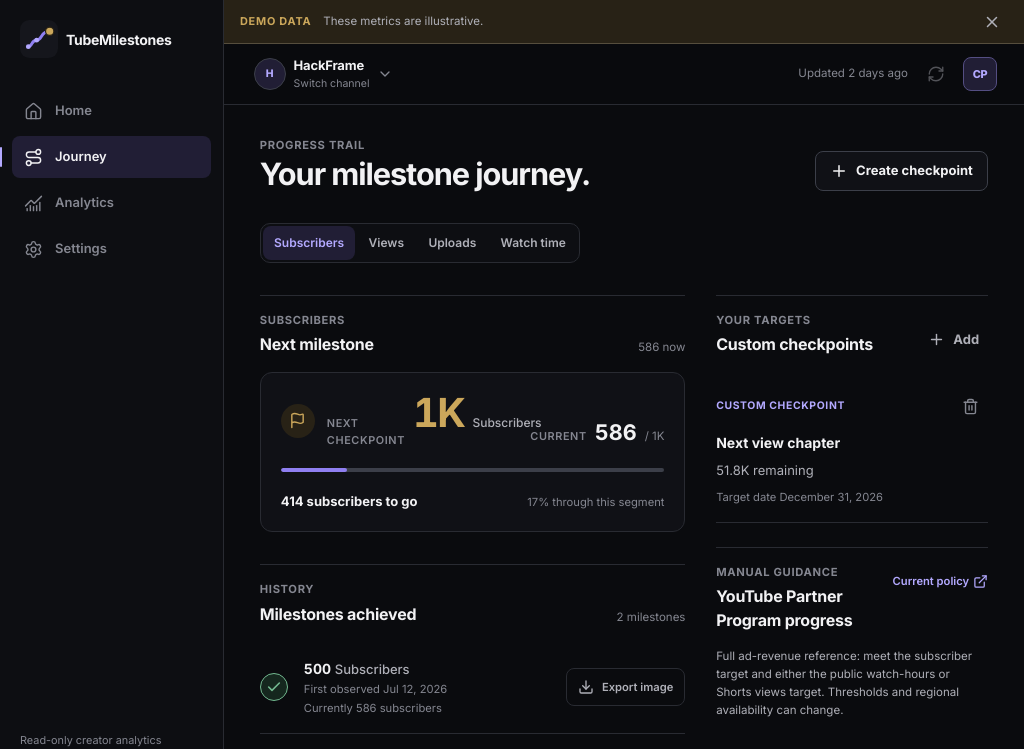
Test case: TubeMilestones cloud application states › renders the differentiated Journey path and changes milestone metrics
The image size is (1024, 749).
Check: the heading "Your milestone journey." is shown, box [260,157,590,190]
Click the button "Views" at {"x": 386, "y": 242}, box [357,226,415,260]
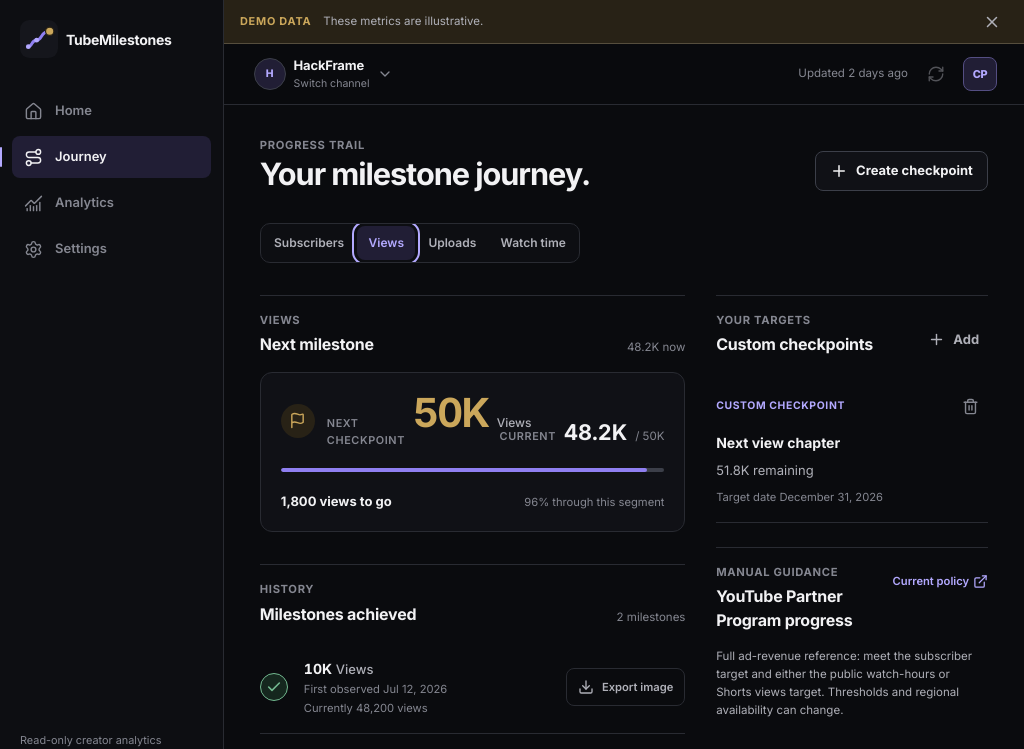
Check: the text "Next checkpoint" is shown, box [327,415,405,448]
Check: the text "48.2K now" is shown, box [627,339,686,356]
